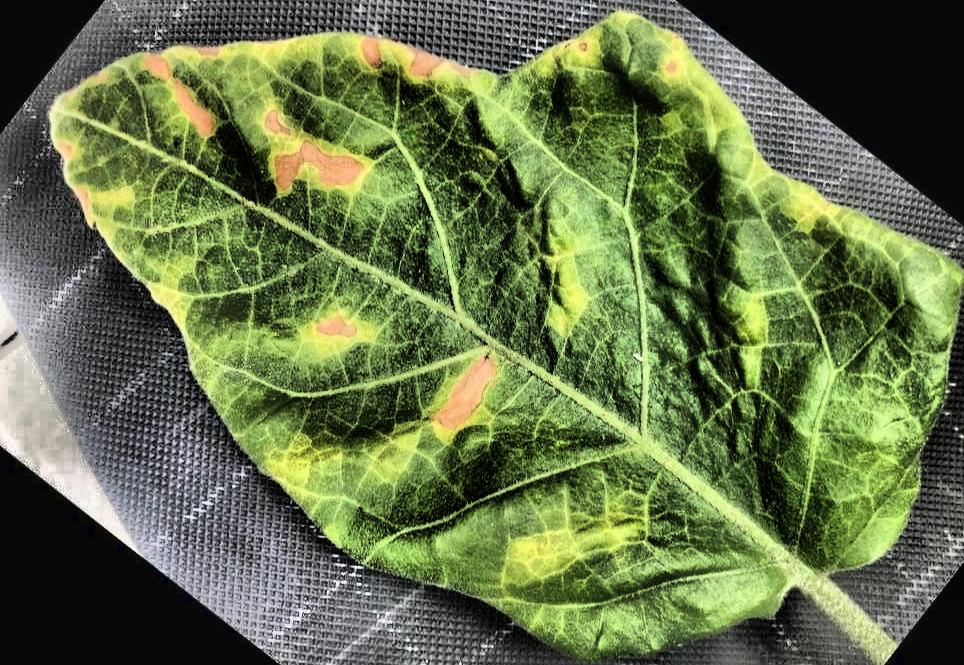Critical Stress: (0, 1, 964, 665)
